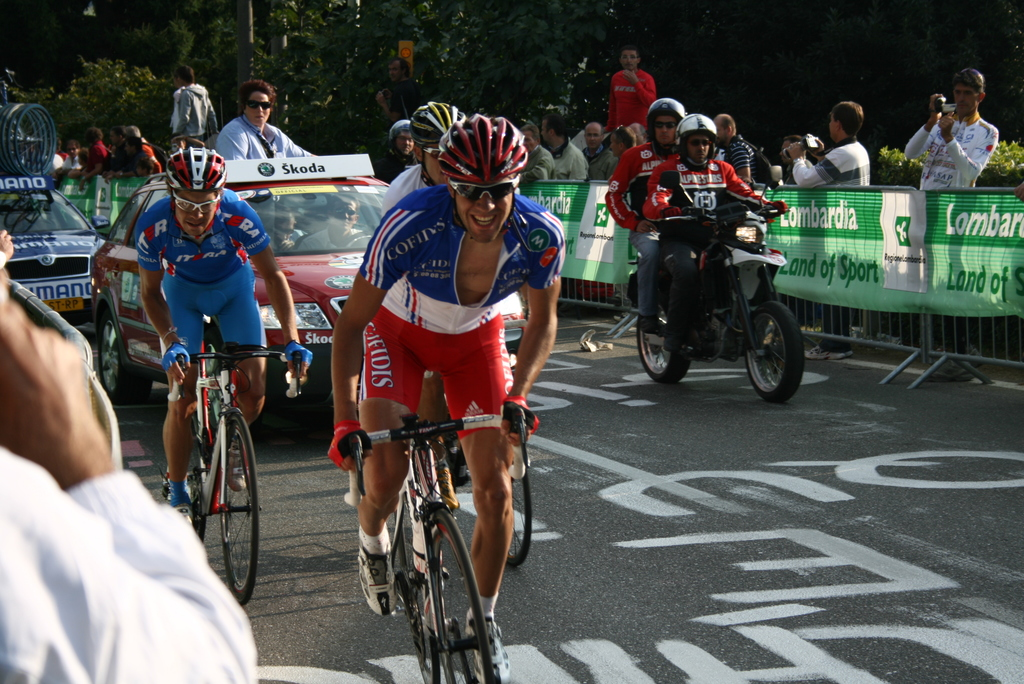Bike: (316, 430, 538, 684)
